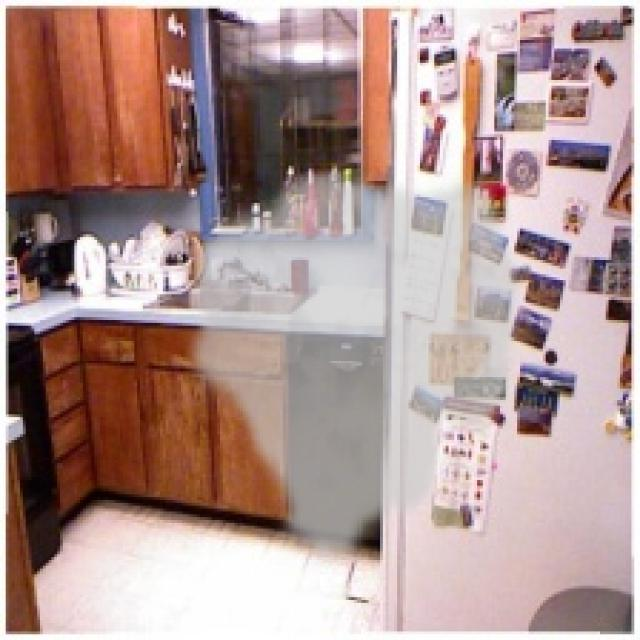smoke: (177, 163, 526, 574)
